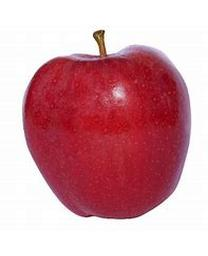apple: (19, 30, 190, 218)
